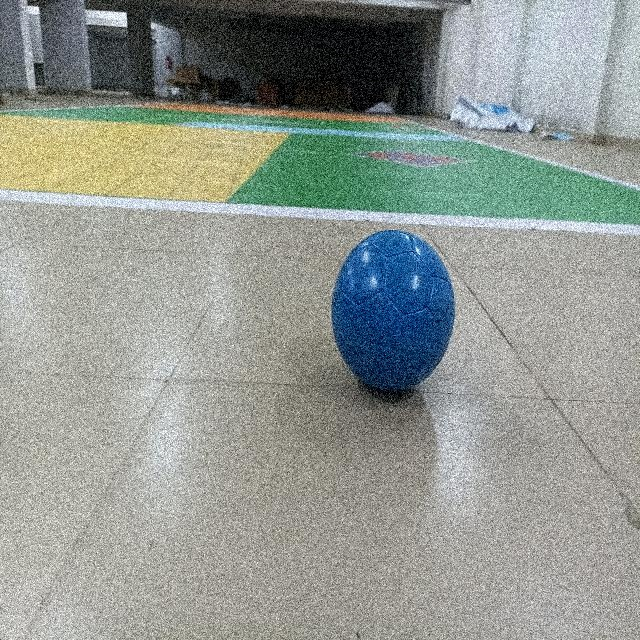blue_ball: (328, 229, 465, 413)
